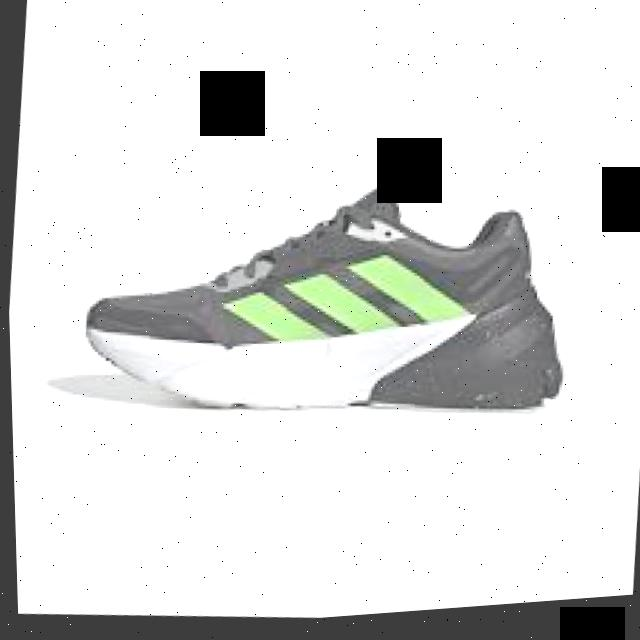shoe: (71, 149, 586, 451)
